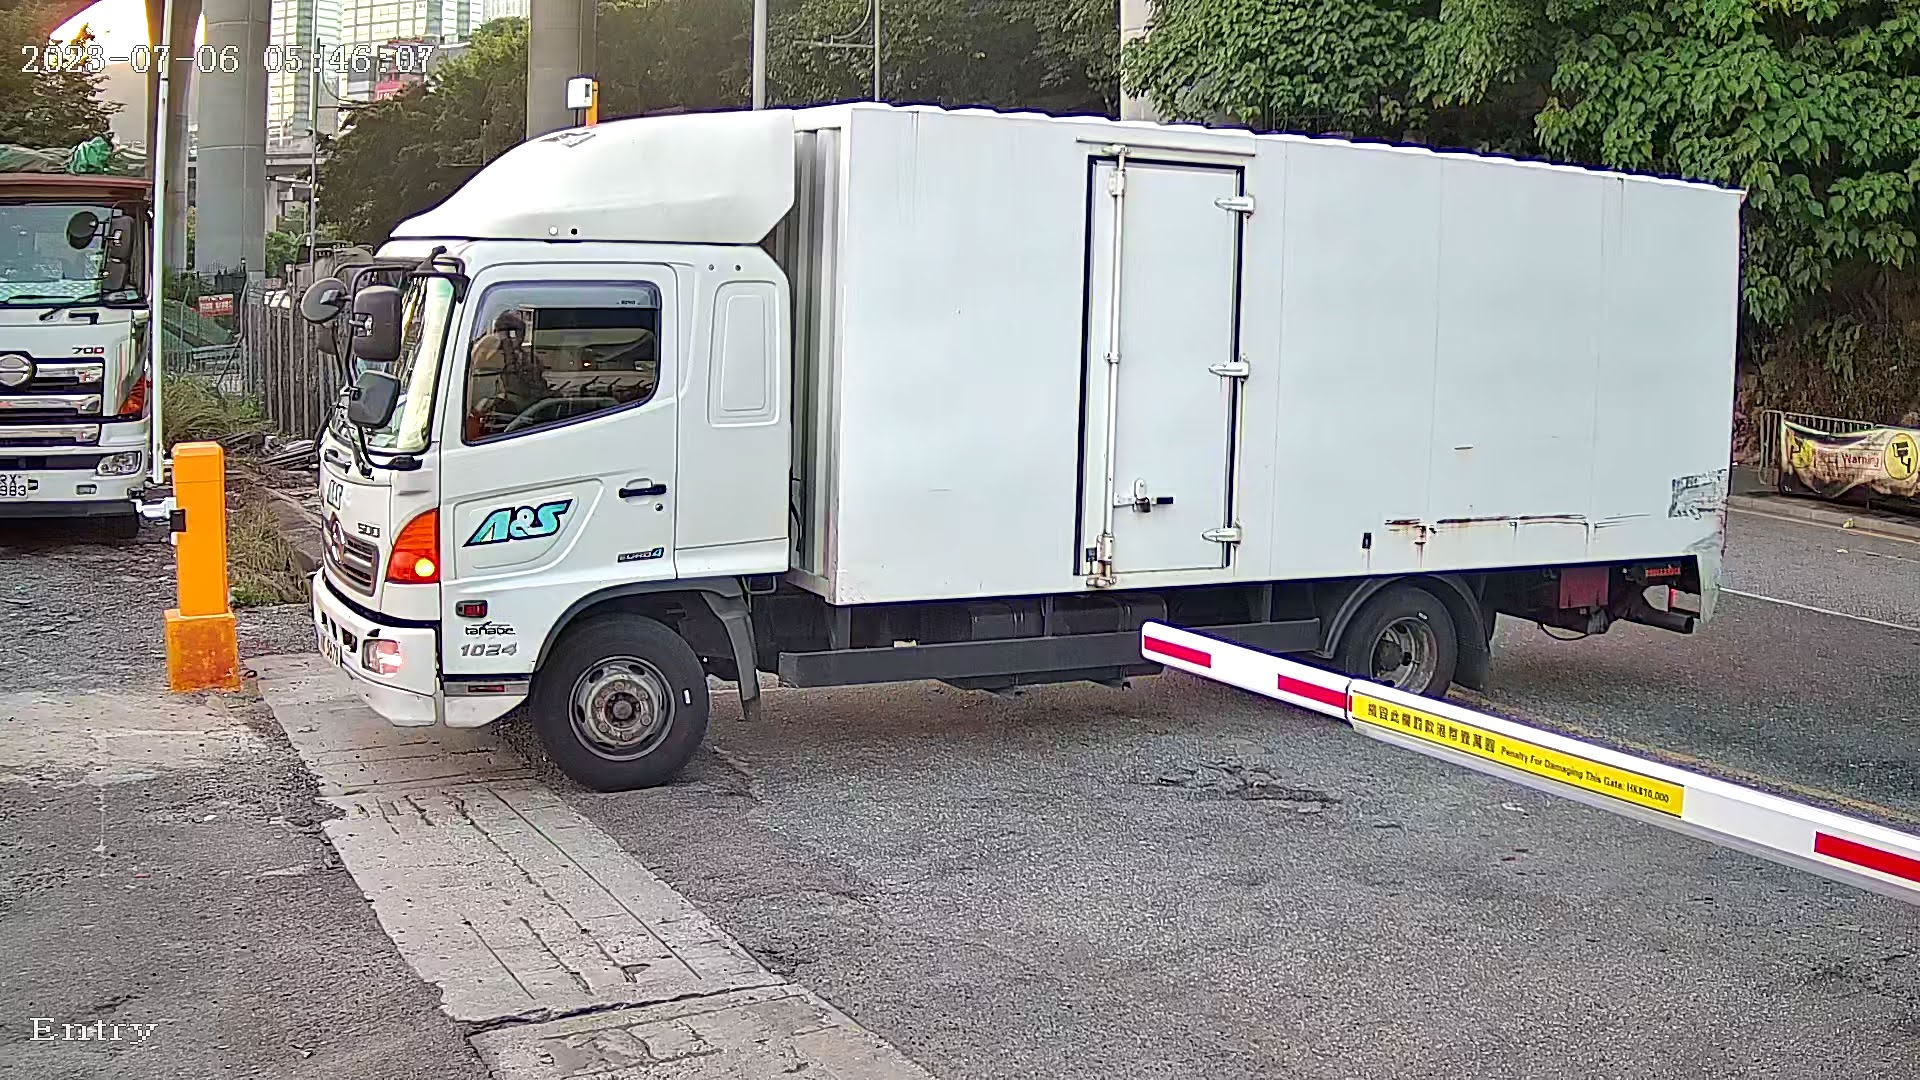truck_small: (244, 80, 1809, 777)
